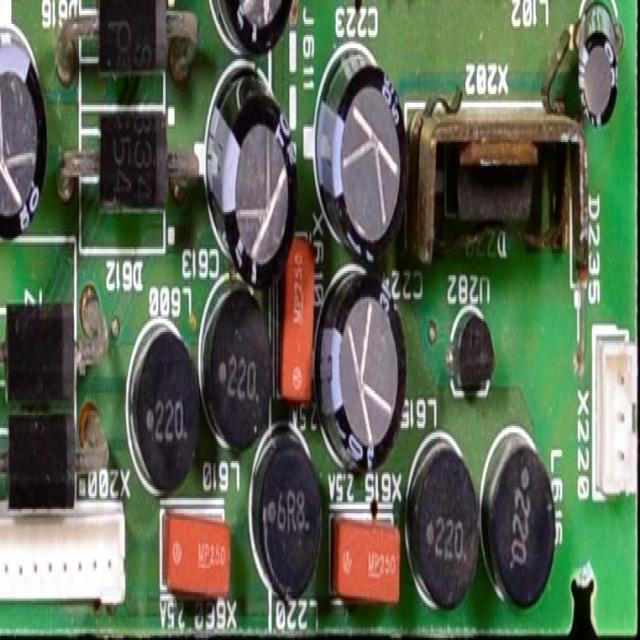capacitor: (326, 257, 404, 458), (328, 65, 410, 254), (231, 105, 295, 284), (0, 35, 48, 271), (579, 26, 616, 136), (221, 0, 293, 48)
